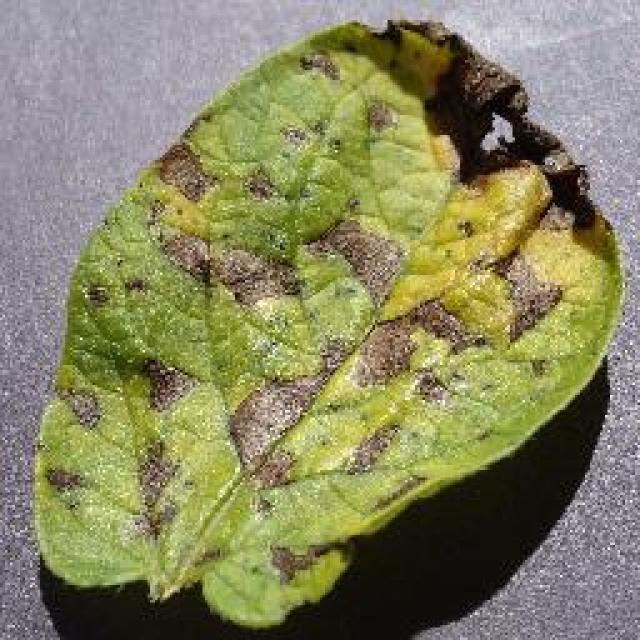early_blight: (28, 15, 628, 633)
